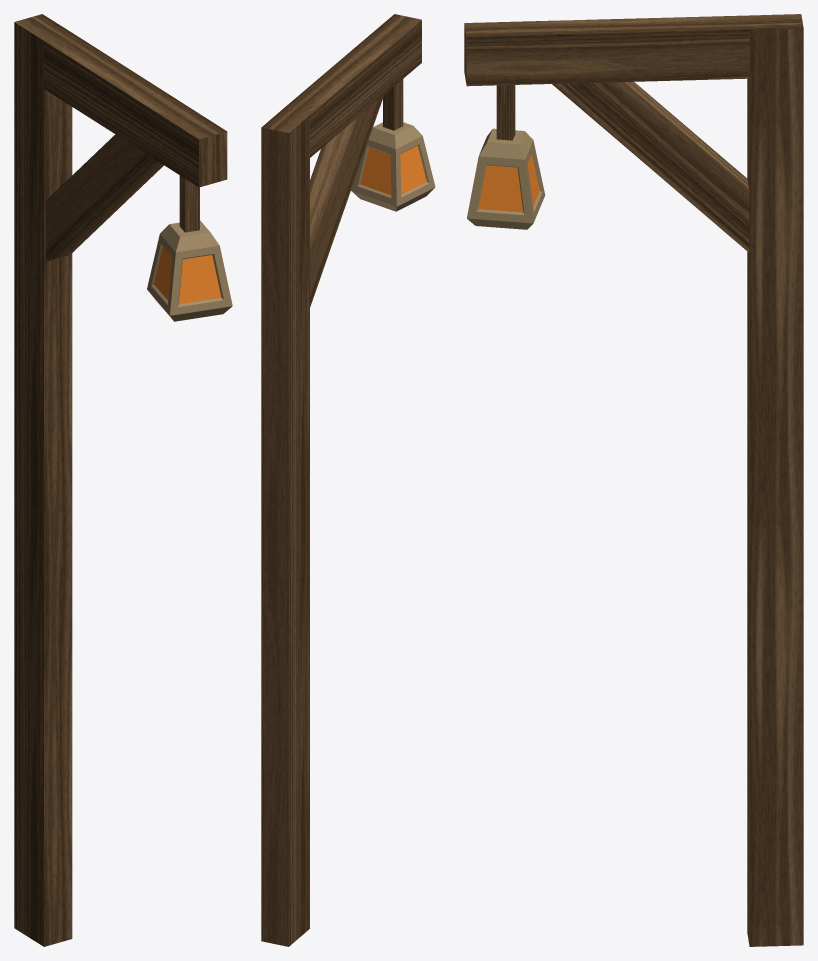
Rendered from Wooden3.obj.
The picture shows the model from 3 angles, left to right: view 1: azimuth 30°, elevation 25°; view 2: azimuth 150°, elevation 25°; view 3: azimuth 270°, elevation 25°; orthographic projection. The views are drawn at different scales.
Visible parts, largest first — view 1: Wooden_07.001_Cube.049; view 2: Wooden_07.001_Cube.049; view 3: Wooden_07.001_Cube.049.
Part boxes in pixels (<box>): Wooden_07.001_Cube.049: <box>14,14,232,946</box>; Wooden_07.001_Cube.049: <box>261,14,435,946</box>; Wooden_07.001_Cube.049: <box>464,14,803,946</box>.
Size of the model in its own units: 0.9657 by 12.43 by 4.17.
